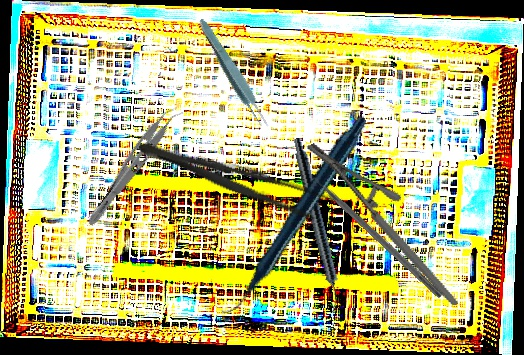Dressing Forceps: (133, 131, 338, 227)
Handpiece: (173, 115, 412, 315), (287, 136, 347, 314)
Hook Surgical: (303, 166, 446, 299)
Needle Holder: (305, 115, 459, 335)
Tissue Forceps: (84, 100, 185, 234), (193, 15, 273, 133)
